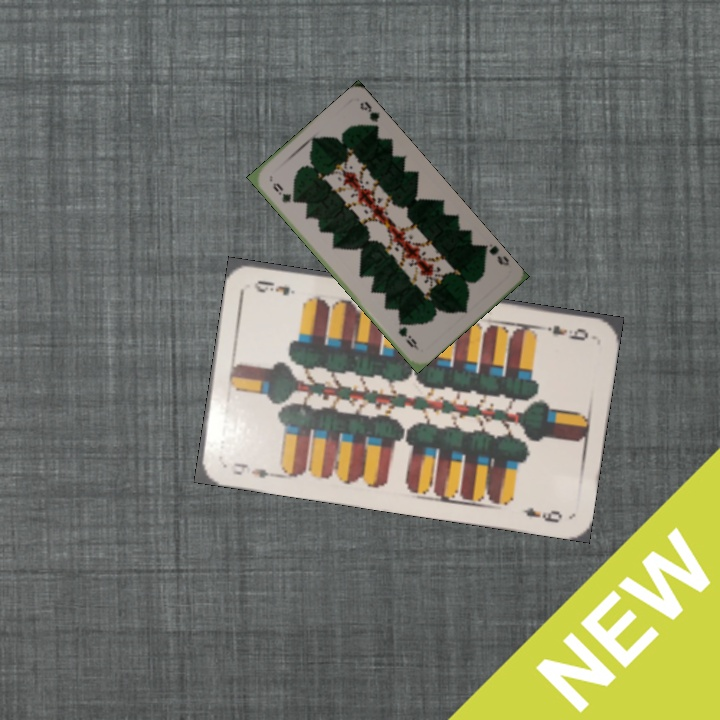E9: (536, 321, 591, 344), (229, 458, 280, 481)
G9: (478, 241, 512, 268), (268, 179, 298, 206)
